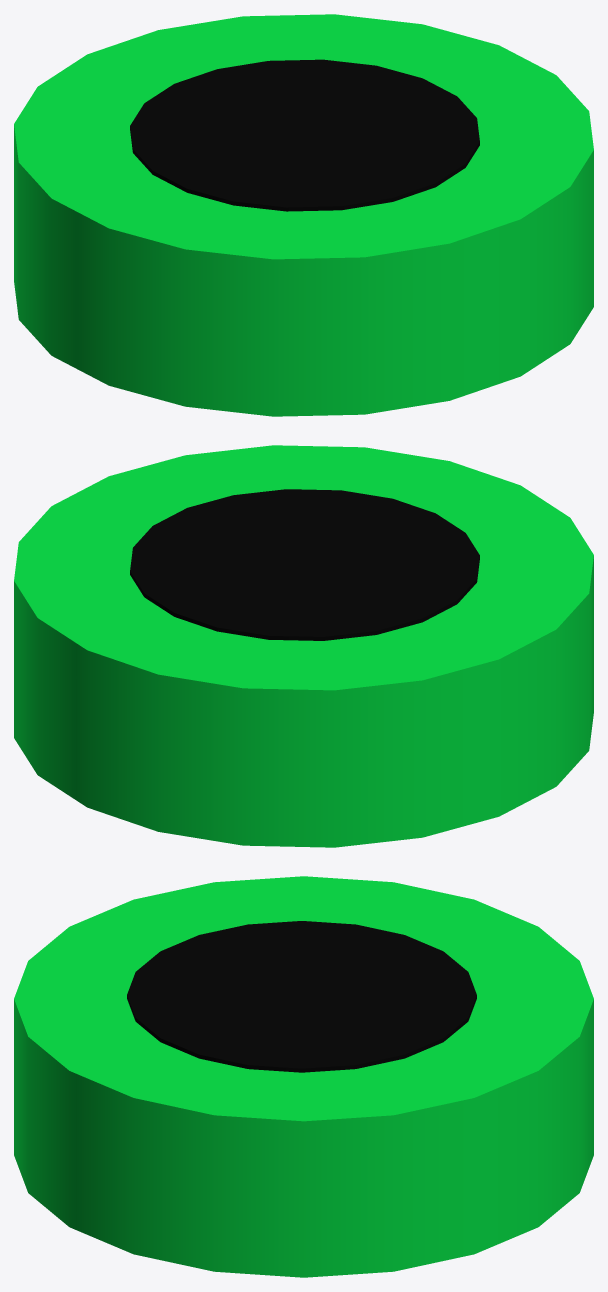
File: Green Coin P.fbx
3 views of the same model, one above another, from view 1: azimuth 30°, elevation 25°; view 2: azimuth 150°, elevation 25°; view 3: azimuth 270°, elevation 25° (orthographic).
Visible parts, largest first — view 1: pCylinder1, pCylinder2; view 2: pCylinder1, pCylinder2; view 3: pCylinder1, pCylinder2.
Boxes of the visible parts, bbox=[...] form: pCylinder1: bbox=[14, 14, 593, 416]; pCylinder2: bbox=[130, 59, 479, 211]; pCylinder1: bbox=[14, 445, 593, 847]; pCylinder2: bbox=[130, 489, 479, 640]; pCylinder1: bbox=[14, 876, 593, 1277]; pCylinder2: bbox=[127, 921, 476, 1072].
Bounding box in the file's own units: 2 × 0.6103 × 2.
